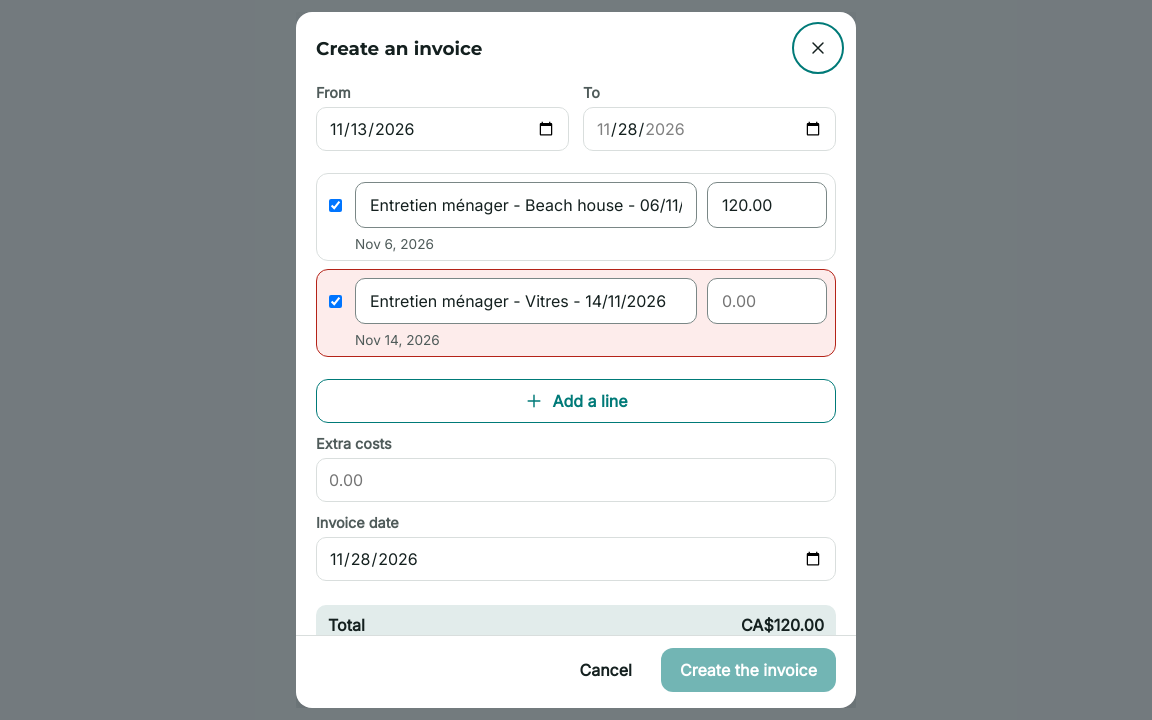
Test: BillDialog › lists the occurrences with the property price, and blocks Create until every ticked line has an amount
Expected: the field named "Amount" holds "120.00", x1=707 y1=182 x2=827 y2=228
Expected: the 1st field named "Description" holds "Entretien ménager - Beach house - 06/11/2026", x1=355 y1=182 x2=697 y2=228
Type "95,5" into the field named "Amount". click: x=767, y=301
box: x1=707 y1=278 x2=827 y2=324
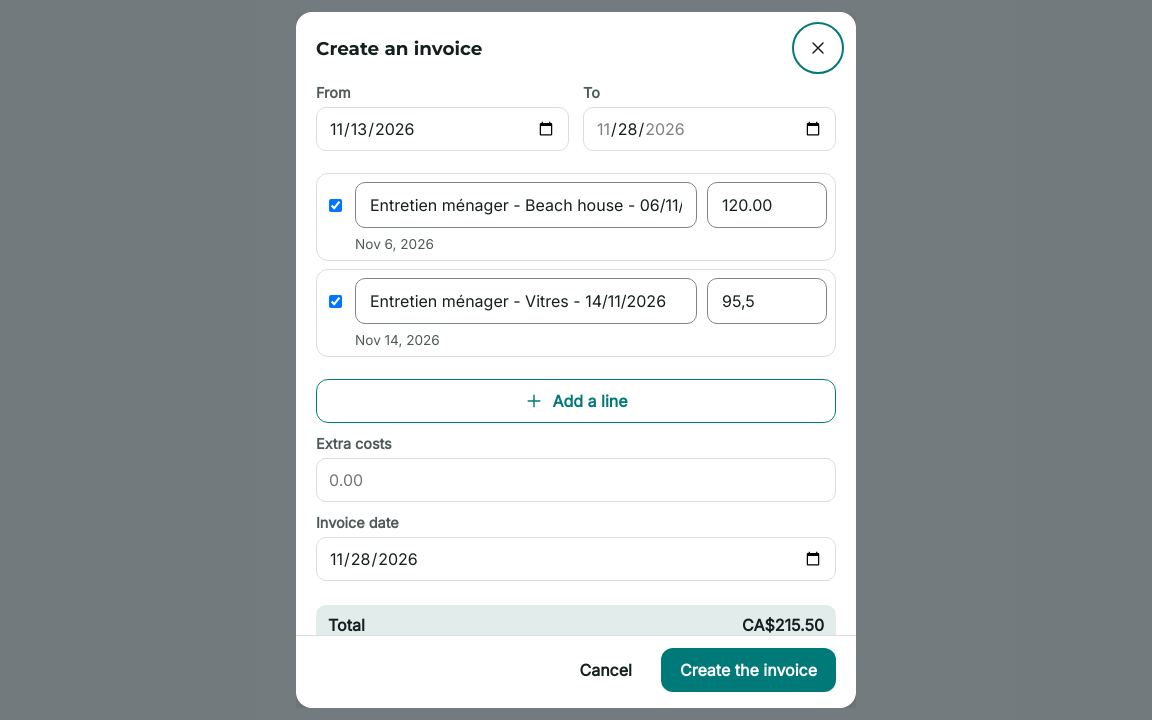
Result: the button "Create the invoice" is enabled at x1=661 y1=648 x2=836 y2=692
Replace the text in the 2nd field named "Amount" with "9x". click: x=767, y=301
box: x1=707 y1=278 x2=827 y2=324
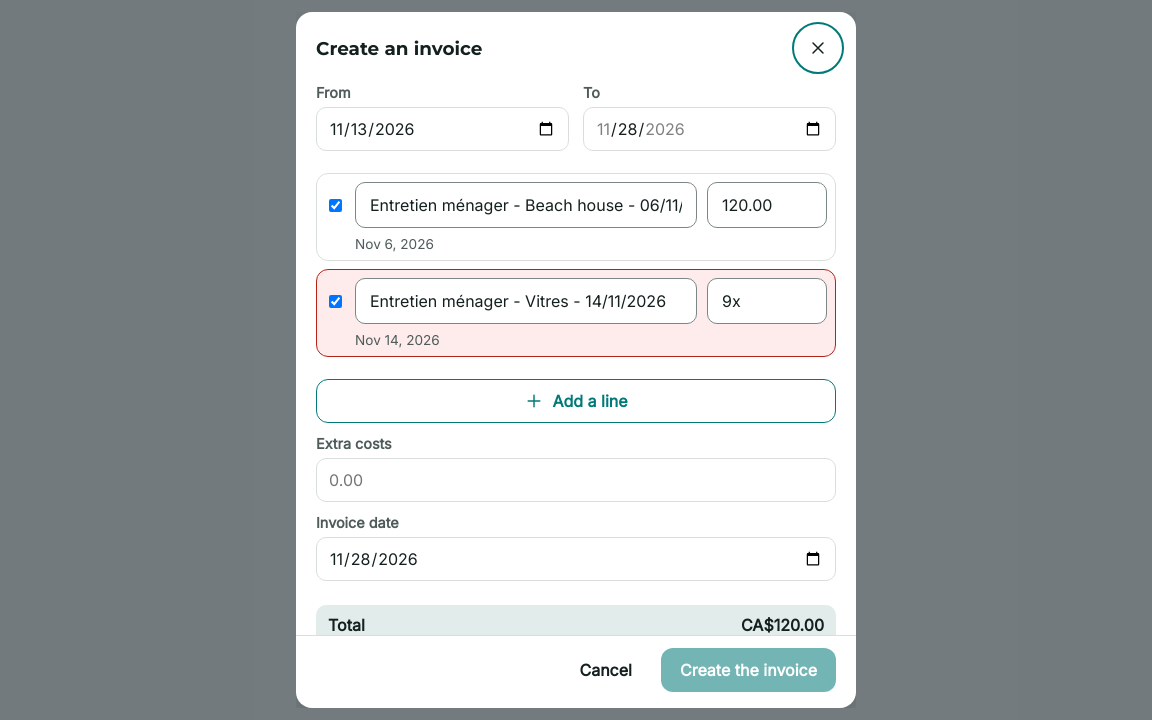
Result: the button "Create the invoice" is disabled at x1=661 y1=648 x2=836 y2=692
